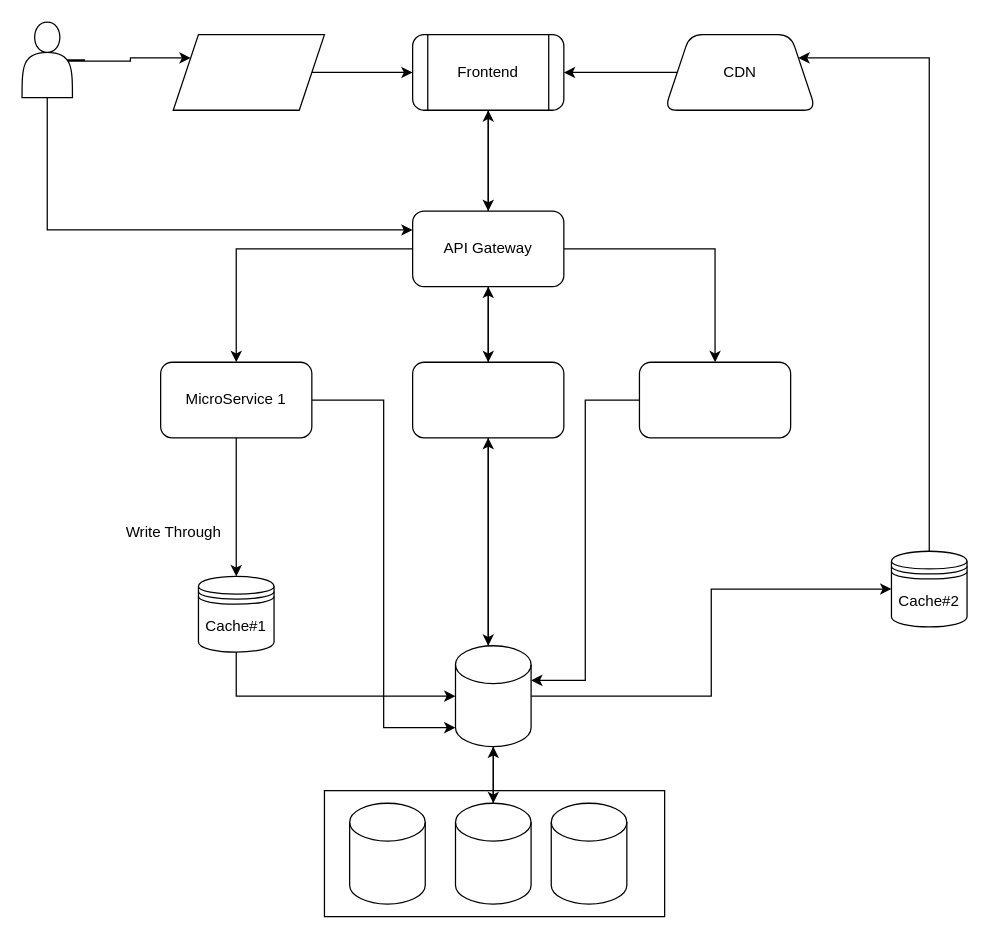
This 989x939 diagram has some shape labels left out. The box of each missing label's shape, as (x1, y1, x2, y2) in pixels:
DNS: (172, 33, 324, 110)
MS 2: (411, 361, 564, 438)
MS 3: (638, 361, 791, 438)
